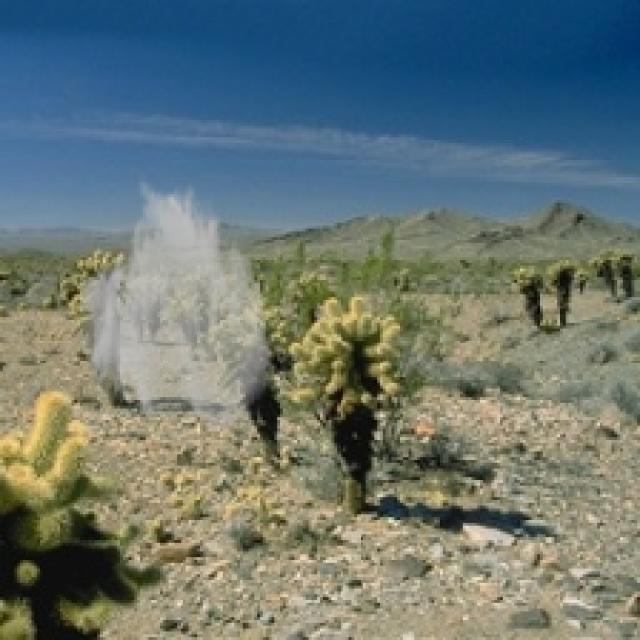smoke: (74, 174, 274, 437)
